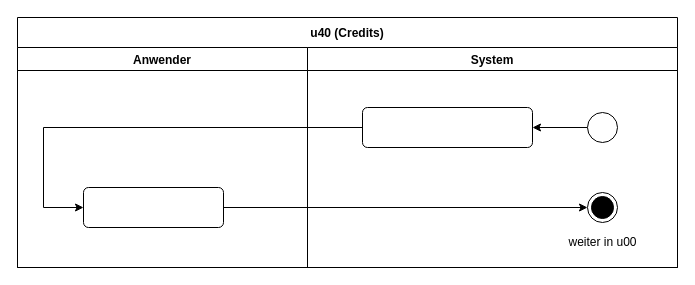
This 695x285 diagram has some shape labels left out. Here are the shapes that lost their labels. From the top down, the box of each, then its label:
(362, 106, 532, 148): d401 Credits anzeigen
(82, 186, 224, 228): a401 Klickt auf Zurück-Button
